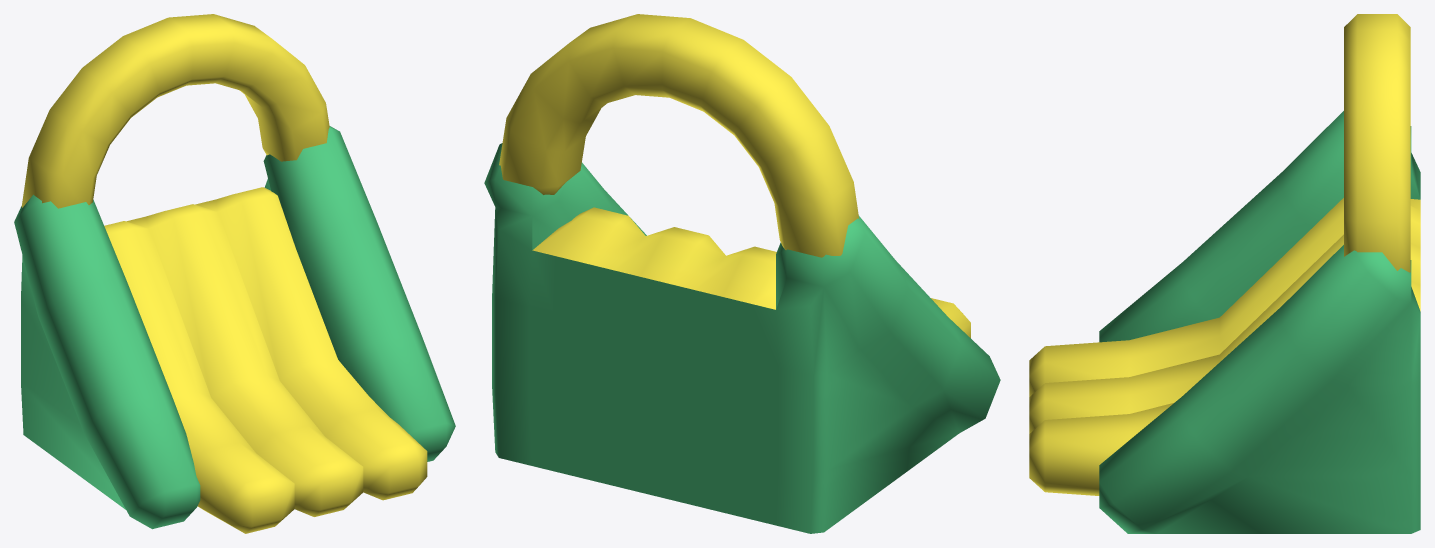
File: for_kids_005.glb
The picture shows the model from 3 angles, left to right: view 1: azimuth 30°, elevation 25°; view 2: azimuth 150°, elevation 25°; view 3: azimuth 270°, elevation 25°; orthographic projection. The views are drawn at different scales.
Visible parts, largest first — view 1: for_kids_005; view 2: for_kids_005; view 3: for_kids_005.
Part boxes in pixels (x1,y1,x2,y2): for_kids_005: (14, 14, 455, 533); for_kids_005: (484, 14, 1000, 533); for_kids_005: (1029, 14, 1420, 533).
Bounding box in the file's own units: 3.28 × 3.76 × 3.12.
1 material, 1 textured.
